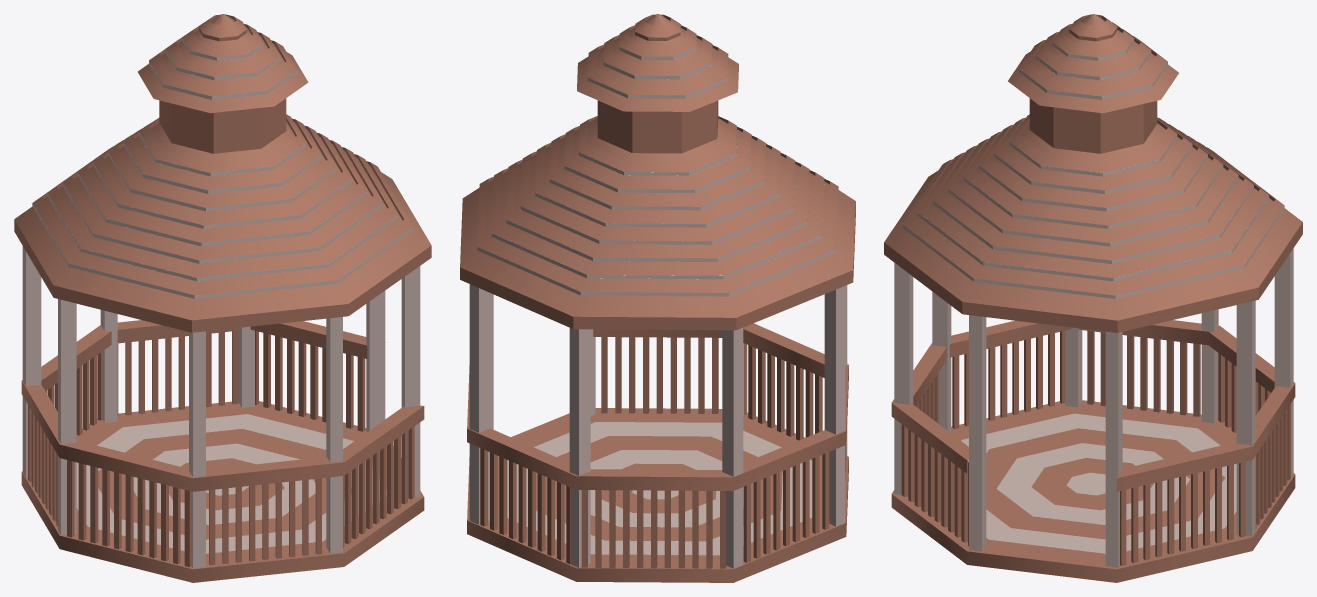
File: 木涼亭.glb
The picture shows the model from 3 angles, left to right: view 1: azimuth 30°, elevation 25°; view 2: azimuth 150°, elevation 25°; view 3: azimuth 270°, elevation 25°; orthographic projection.
Parts seen in each view (by area): view 1: Cylinder004; view 2: Cylinder004; view 3: Cylinder004.
Part boxes in pixels (x1=…): Cylinder004: x1=14, y1=14, x2=431, y2=582; Cylinder004: x1=460, y1=14, x2=855, y2=582; Cylinder004: x1=884, y1=14, x2=1302, y2=582.
Bounding box in the file's own units: 400520 × 509252 × 400520.
